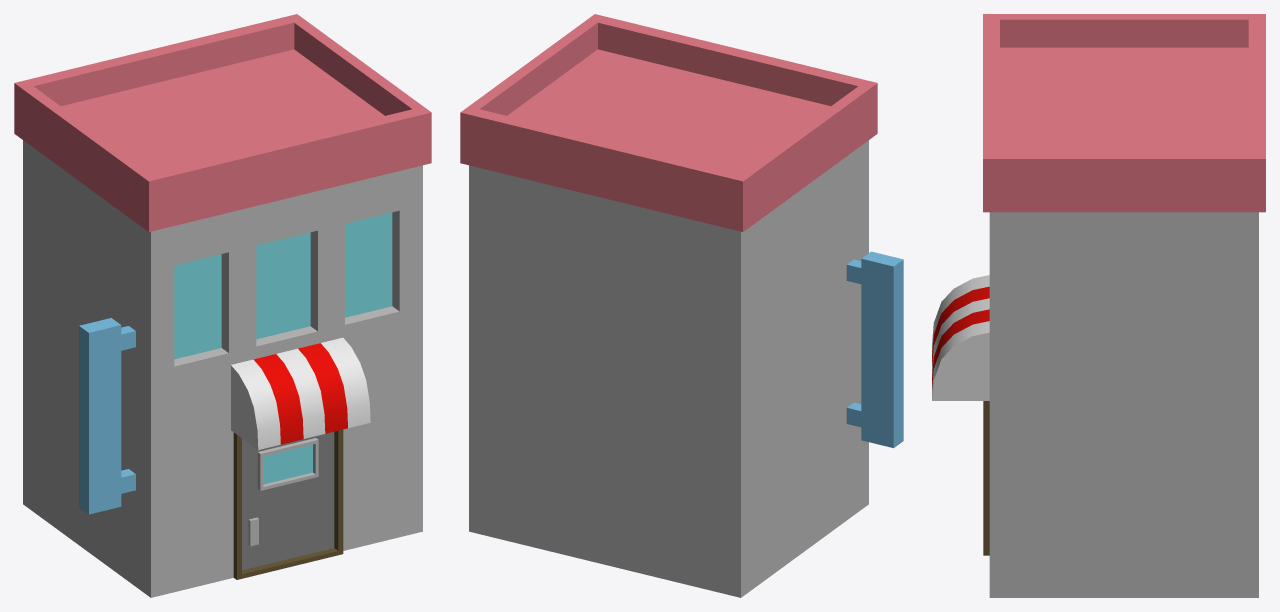
Rendered from building_test.fbx.
3 renders of one model, left to right at view 1: azimuth 30°, elevation 25°; view 2: azimuth 150°, elevation 25°; view 3: azimuth 270°, elevation 25°, orthographic. The views are drawn at different scales.
Visible parts, largest first — view 1: building_test, door, sign; view 2: building_test, sign; view 3: building_test.
Boxes of the visible parts, x1=… form: building_test: x1=14, y1=14, x2=431, y2=597; door: x1=242, y1=432, x2=334, y2=570; sign: x1=79, y1=318, x2=135, y2=514; building_test: x1=460, y1=14, x2=877, y2=597; sign: x1=846, y1=251, x2=903, y2=448; building_test: x1=932, y1=14, x2=1265, y2=597.
Size of the model in its own units: 203 by 250 by 171.
